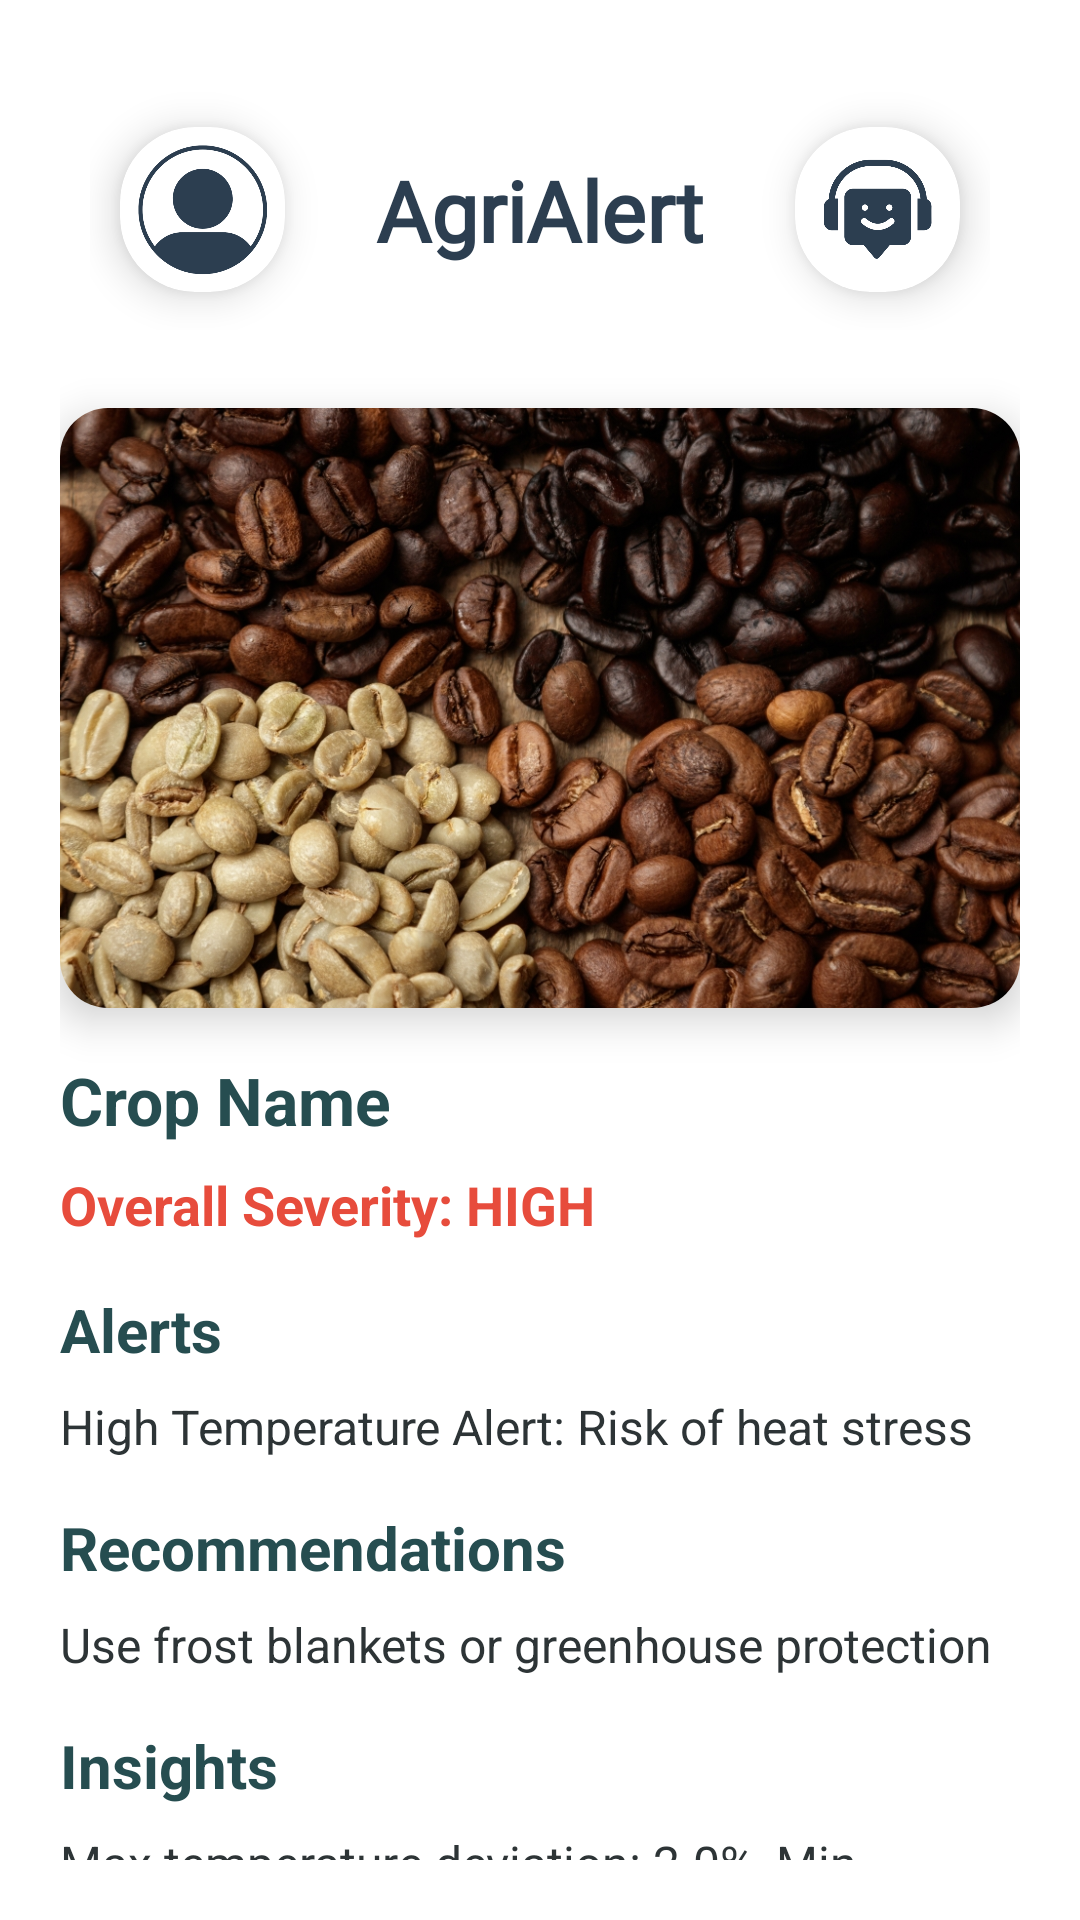

Named icons in this screenshot (1080 x 1920) and their bounding boxes, (x1, y1, x2, y2):
Chatbot Icon: (824, 160, 960, 292)
Profile Icon: (120, 145, 267, 292)
